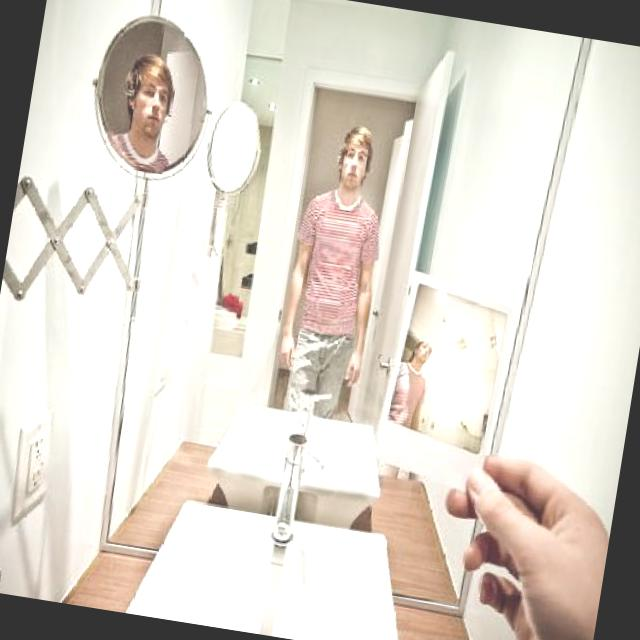Person: (268, 114, 398, 424), (420, 446, 619, 640), (108, 46, 188, 176), (373, 329, 434, 482)
